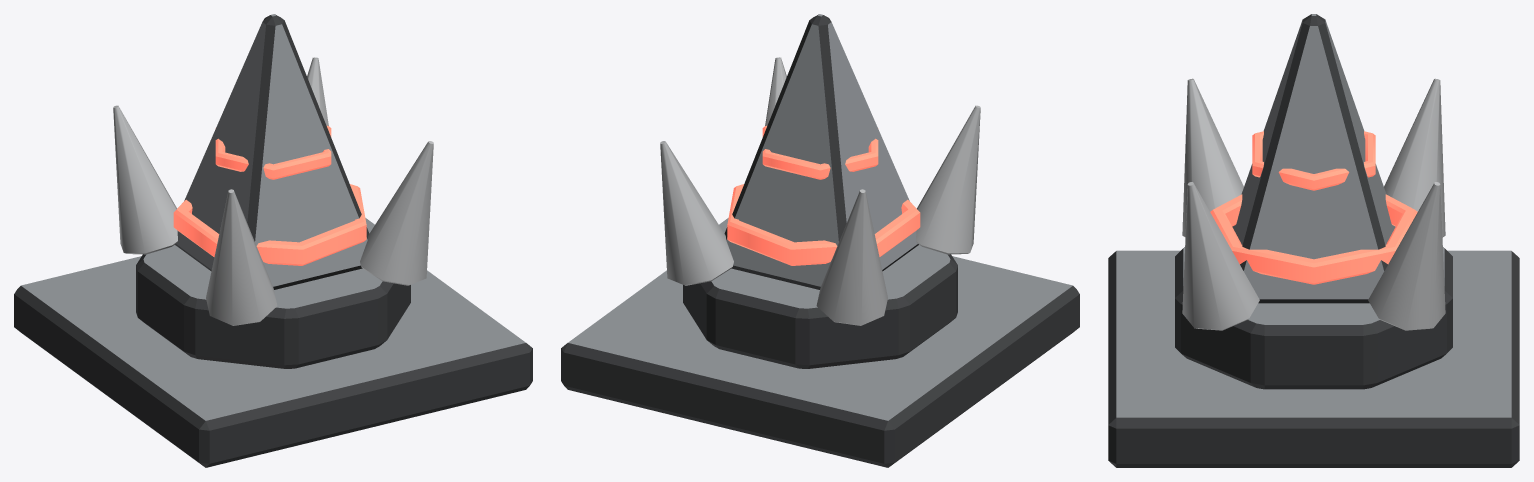
The model's file is R4X_DamageBooster_LOD1.fbx.
3 views of the same model, side by side, from view 1: azimuth 30°, elevation 25°; view 2: azimuth 150°, elevation 25°; view 3: azimuth 270°, elevation 25° (orthographic). The views are drawn at different scales.
Visible parts, largest first — view 1: R4X_DamageBooster_LOD1; view 2: R4X_DamageBooster_LOD1; view 3: R4X_DamageBooster_LOD1.
Part boxes in pixels (box(x1,y1,x2,y2)): R4X_DamageBooster_LOD1: box(14, 14, 532, 467); R4X_DamageBooster_LOD1: box(561, 14, 1079, 467); R4X_DamageBooster_LOD1: box(1108, 14, 1519, 467).
Bounding box in the file's own units: 0.52 × 0.515 × 0.52.
